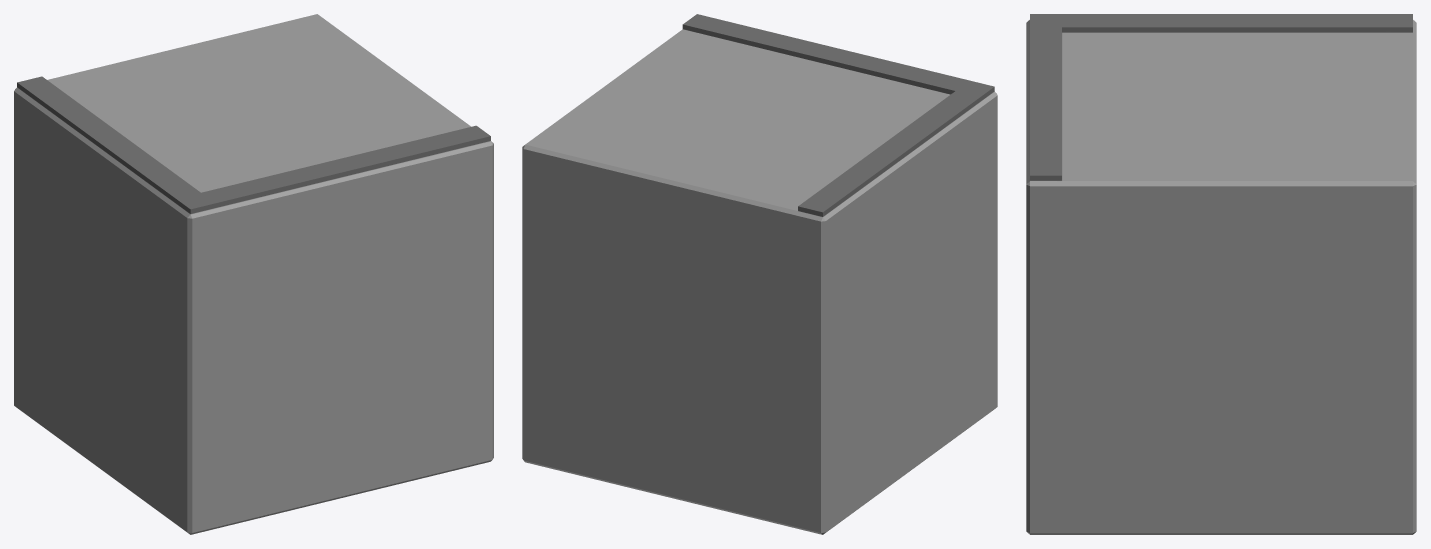
File: 11 Concrete Corner.fbx
The picture shows the model from 3 angles, left to right: view 1: azimuth 30°, elevation 25°; view 2: azimuth 150°, elevation 25°; view 3: azimuth 270°, elevation 25°; orthographic projection. The views are drawn at different scales.
Parts seen in each view (by area): view 1: 11 Concrete Corner; view 2: 11 Concrete Corner; view 3: 11 Concrete Corner.
Boxes of the visible parts, x1=… form: 11 Concrete Corner: x1=14, y1=14, x2=493, y2=534; 11 Concrete Corner: x1=522, y1=14, x2=997, y2=534; 11 Concrete Corner: x1=1026, y1=14, x2=1416, y2=534.
Bounding box in the file's own units: 100 × 102 × 100.
1 material, 1 textured.
